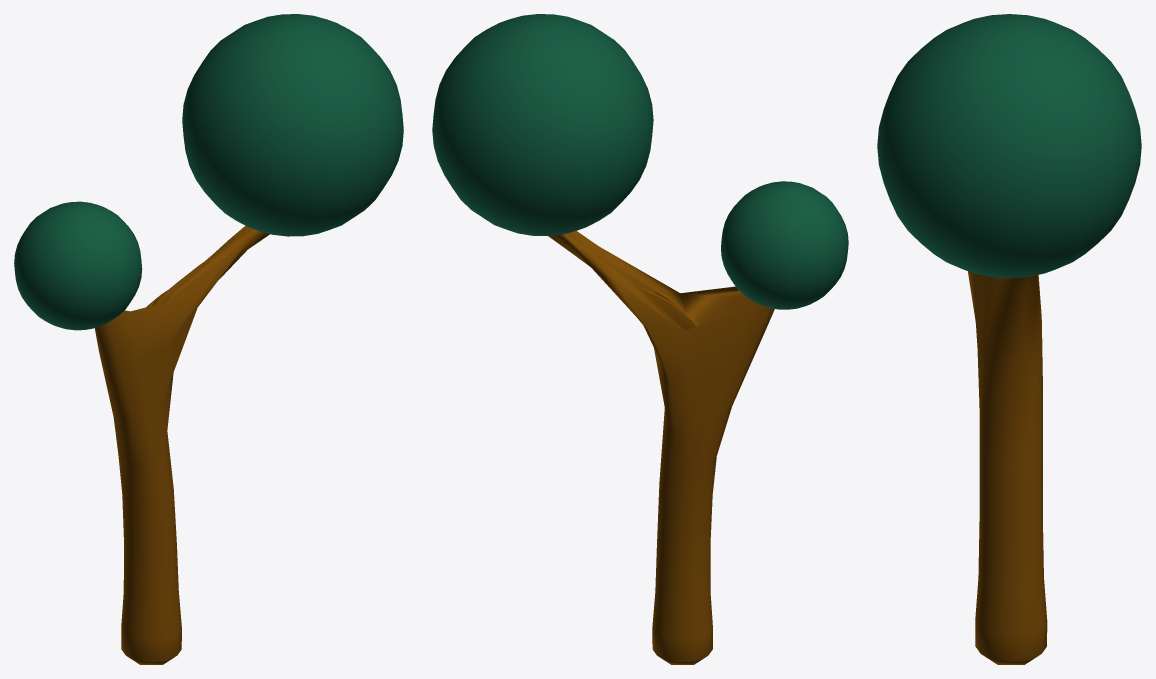
The model's file is air tree.fbx.
The picture shows the model from 3 angles, left to right: view 1: azimuth 30°, elevation 25°; view 2: azimuth 150°, elevation 25°; view 3: azimuth 270°, elevation 25°; orthographic projection. The views are drawn at different scales.
Parts seen in each view (by area): view 1: pSphere2, pCylinder2, pSphere1; view 2: pSphere2, pCylinder2, pSphere1; view 3: pSphere2, pCylinder2.
Boxes of the visible parts, x1=… form: pSphere2: x1=182, y1=14, x2=403, y2=236; pCylinder2: x1=94, y1=225, x2=269, y2=664; pSphere1: x1=14, y1=201, x2=142, y2=330; pSphere2: x1=432, y1=14, x2=653, y2=235; pCylinder2: x1=548, y1=231, x2=774, y2=664; pSphere1: x1=721, y1=181, x2=848, y2=309; pSphere2: x1=877, y1=14, x2=1141, y2=278; pCylinder2: x1=968, y1=271, x2=1047, y2=664.
Size of the model in its own units: 19.15 by 28.76 by 9.71.
